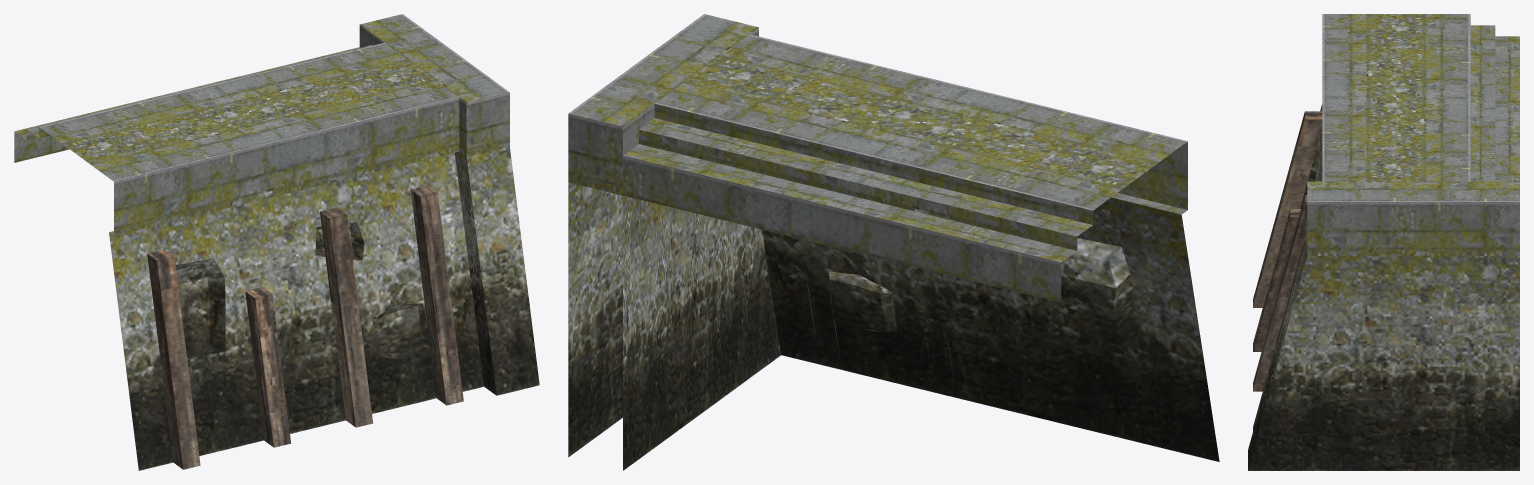
File: CanalWall01d.obj
The picture shows the model from 3 angles, left to right: view 1: azimuth 30°, elevation 25°; view 2: azimuth 150°, elevation 25°; view 3: azimuth 270°, elevation 25°; orthographic projection. The views are drawn at different scales.
Visible parts, largest first — view 1: CanalWall04, CanalWallCap, CanalWallPosts01, CanalWallPosts02, CanalWallPosts03; view 2: CanalWall04, CanalWallCap; view 3: CanalWallCap, CanalWall04, CanalWallPosts01, CanalWallPosts02, CanalWallPosts03.
Boxes of the visible parts, left/top/right/bottom form: CanalWall04: left=14, top=43, right=483, bottom=470; CanalWallCap: left=359, top=14, right=539, bottom=395; CanalWallPosts01: left=151, top=185, right=463, bottom=469; CanalWallPosts02: left=155, top=207, right=463, bottom=469; CanalWallPosts03: left=147, top=223, right=462, bottom=469; CanalWall04: left=623, top=34, right=1219, bottom=461; CanalWallCap: left=568, top=14, right=781, bottom=470; CanalWallCap: left=1248, top=181, right=1519, bottom=470; CanalWall04: left=1300, top=14, right=1519, bottom=208; CanalWallPosts01: left=1253, top=142, right=1316, bottom=430; CanalWallPosts02: left=1253, top=170, right=1307, bottom=405; CanalWallPosts03: left=1253, top=111, right=1322, bottom=307.
Size of the model in its own units: 9 by 6 by 5.5.
